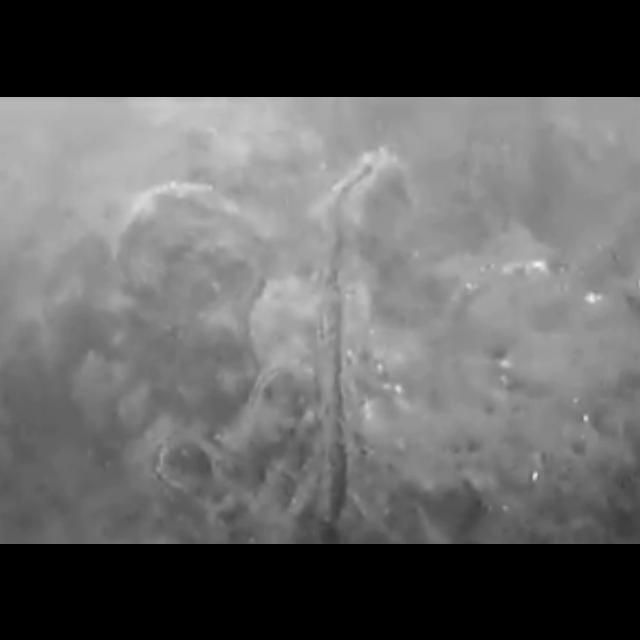Oyster-Closed: (108, 178, 272, 396)
Oyster-Open: (308, 278, 374, 530), (310, 145, 420, 287), (143, 421, 237, 499), (247, 356, 319, 446)
